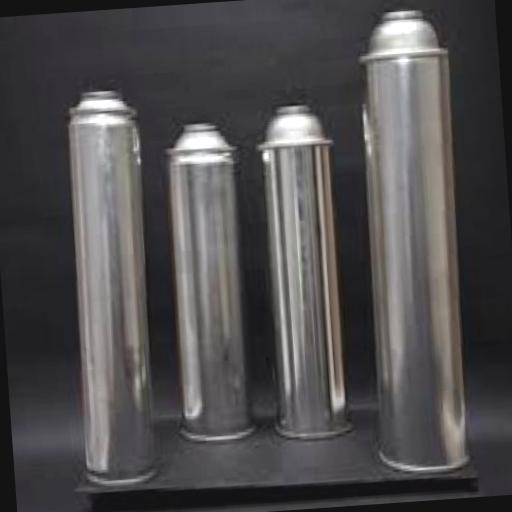metal: (346, 4, 468, 474), (64, 86, 163, 485), (252, 102, 350, 442), (162, 118, 252, 445)
